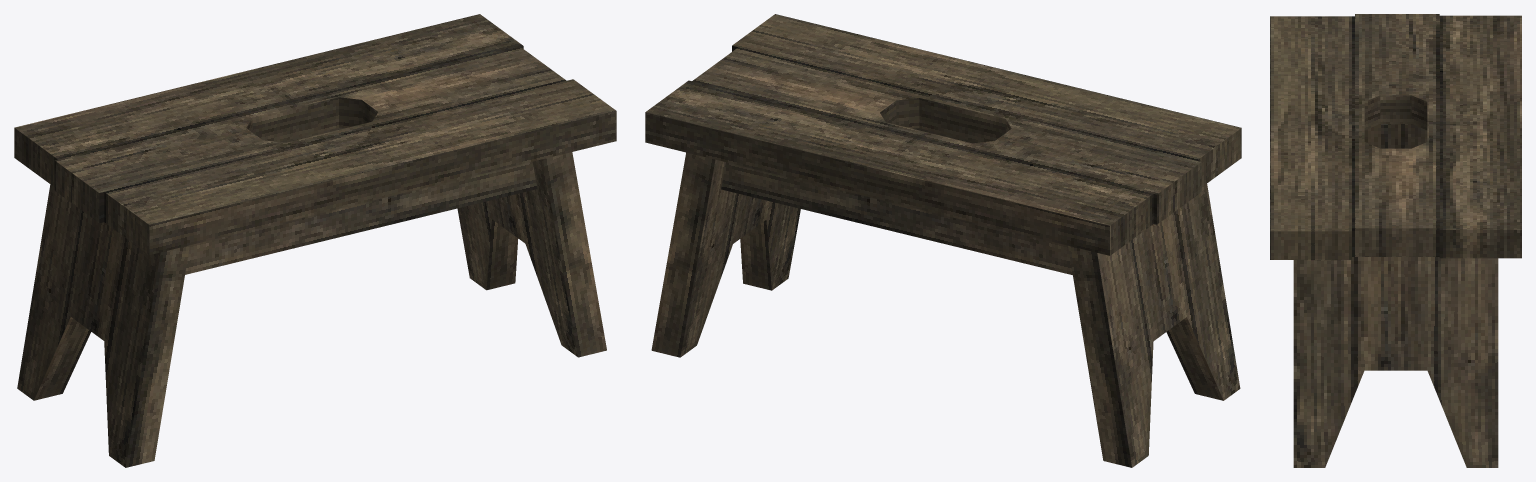
File: stool_mx_1_1.glb
3 views of the same model, side by side, from view 1: azimuth 30°, elevation 25°; view 2: azimuth 150°, elevation 25°; view 3: azimuth 270°, elevation 25° (orthographic). The views are drawn at different scales.
Visible parts, largest first — view 1: stool_mx_1_1; view 2: stool_mx_1_1; view 3: stool_mx_1_1.
Part boxes in pixels (x1,y1,x2,y2): stool_mx_1_1: [14, 14, 616, 467]; stool_mx_1_1: [645, 14, 1241, 467]; stool_mx_1_1: [1270, 14, 1521, 467].
Bounding box in the file's own units: 0.6665 × 0.33 × 0.32.
Materials: 1 (1 with a texture image).
